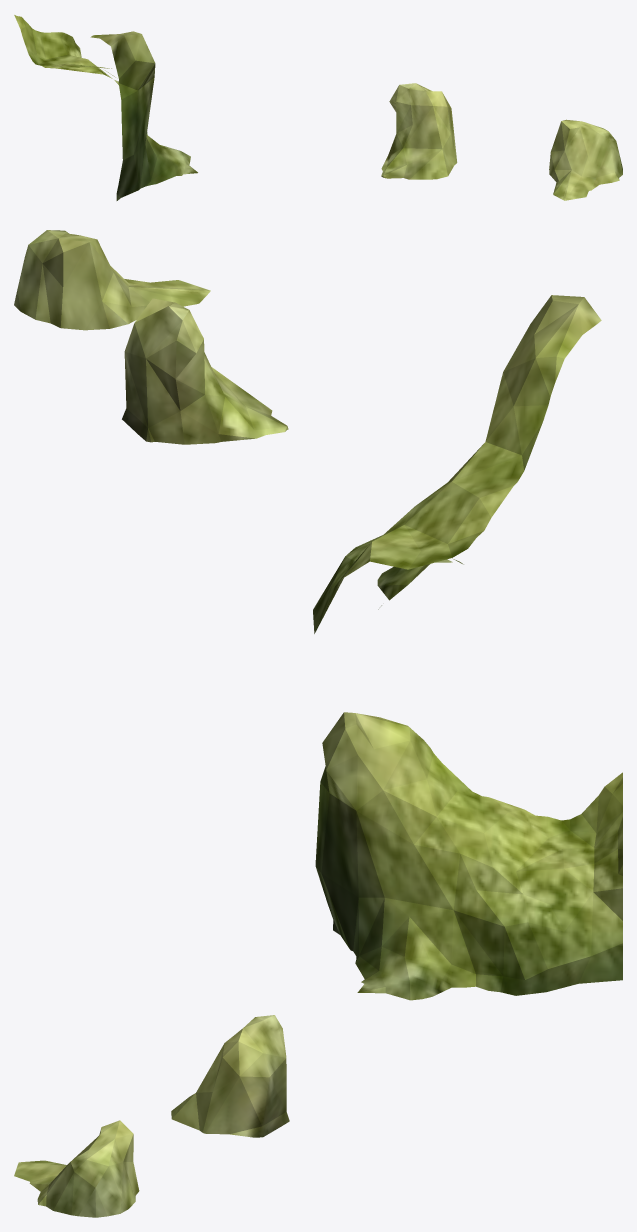
3 renders of one model, top to bottom at view 1: azimuth 30°, elevation 25°; view 2: azimuth 150°, elevation 25°; view 3: azimuth 270°, elevation 25°, orthographic. The views are drawn at different scales.
Size of the model in its own units: 2.22 by 0.813 by 1.98.
1 material, 1 textured.
